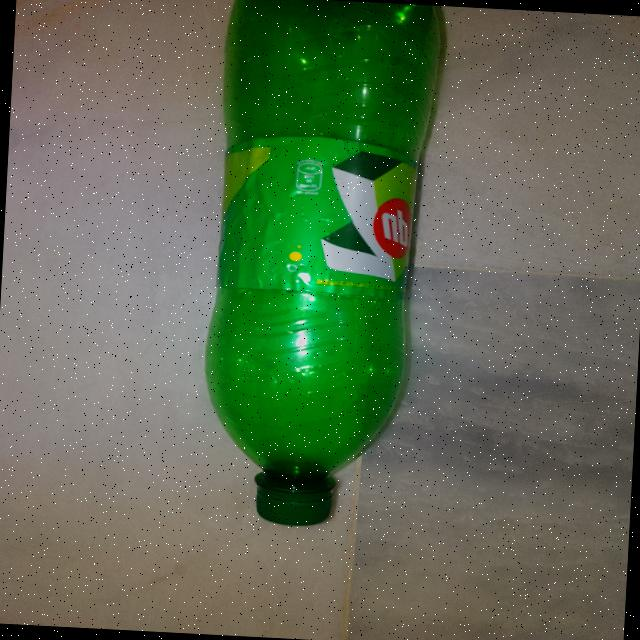bottle: (187, 0, 471, 544)
cap: (246, 476, 344, 533)
label: (210, 124, 434, 310)
